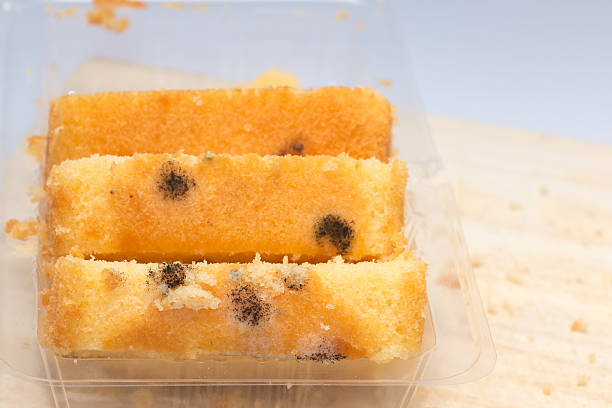mold_bread: (222, 267, 274, 331), (310, 209, 366, 262), (154, 157, 200, 205), (290, 339, 354, 369), (144, 254, 190, 295), (279, 135, 314, 166), (280, 265, 310, 295)
